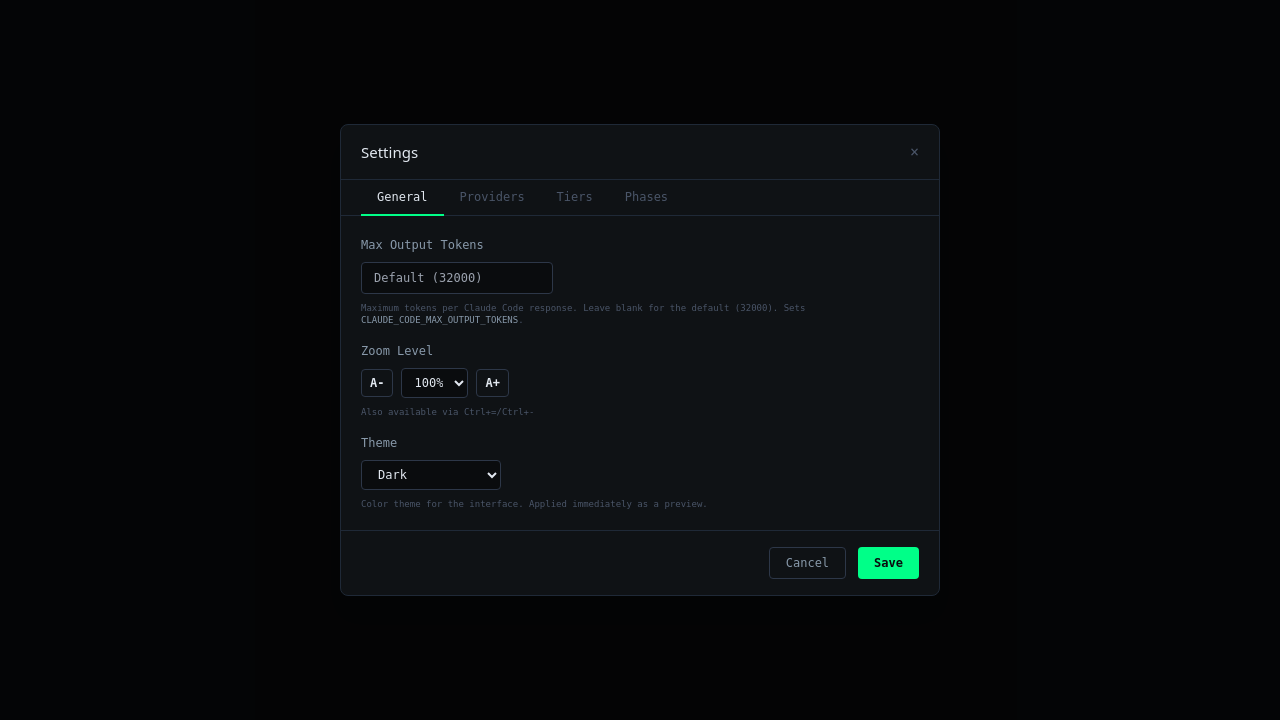
Scenario: SettingsDialog › switches between General, Providers, Tiers, and Phases tabs
Expected: the element with test id "tab-general" is shown, [361,238,805,509]
Switch to Providers
Step 1. Click the button "Providers" → (492, 198), box [444,180,541,216]
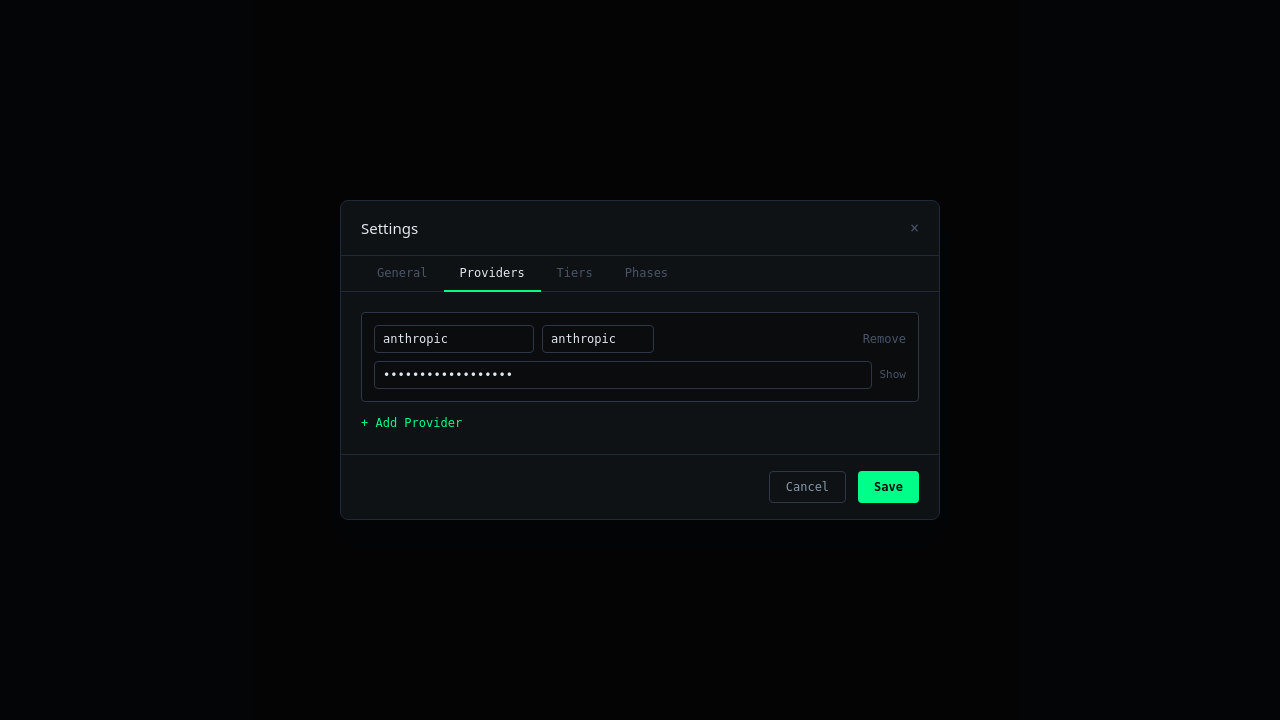
Expected: the element with test id "tab-providers" is shown, [361,312,919,434]
Switch to Tiers
Step 2. Click the button "Tiers" → (575, 274), box [541,256,609,292]
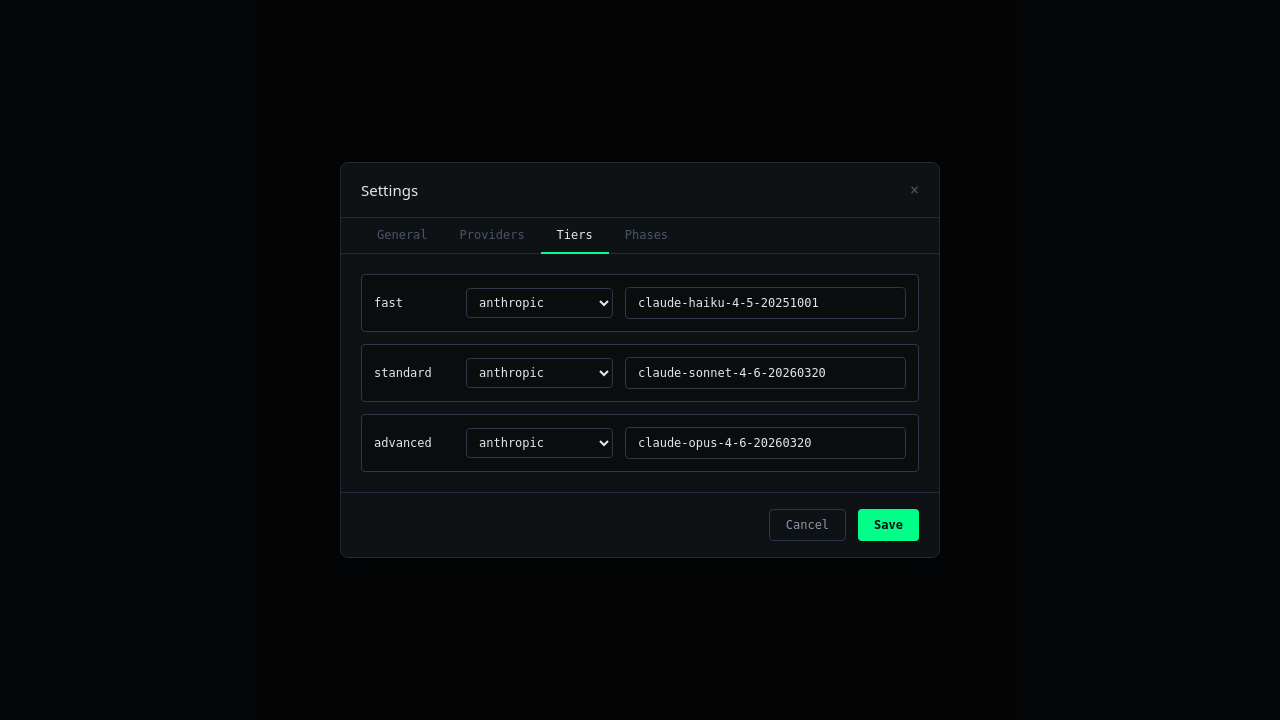
Expected: the element with test id "tab-tiers" is shown, [361,274,919,472]
Switch to Phases
Step 3. Click the button "Phases" → (646, 236), box [609,218,684,254]
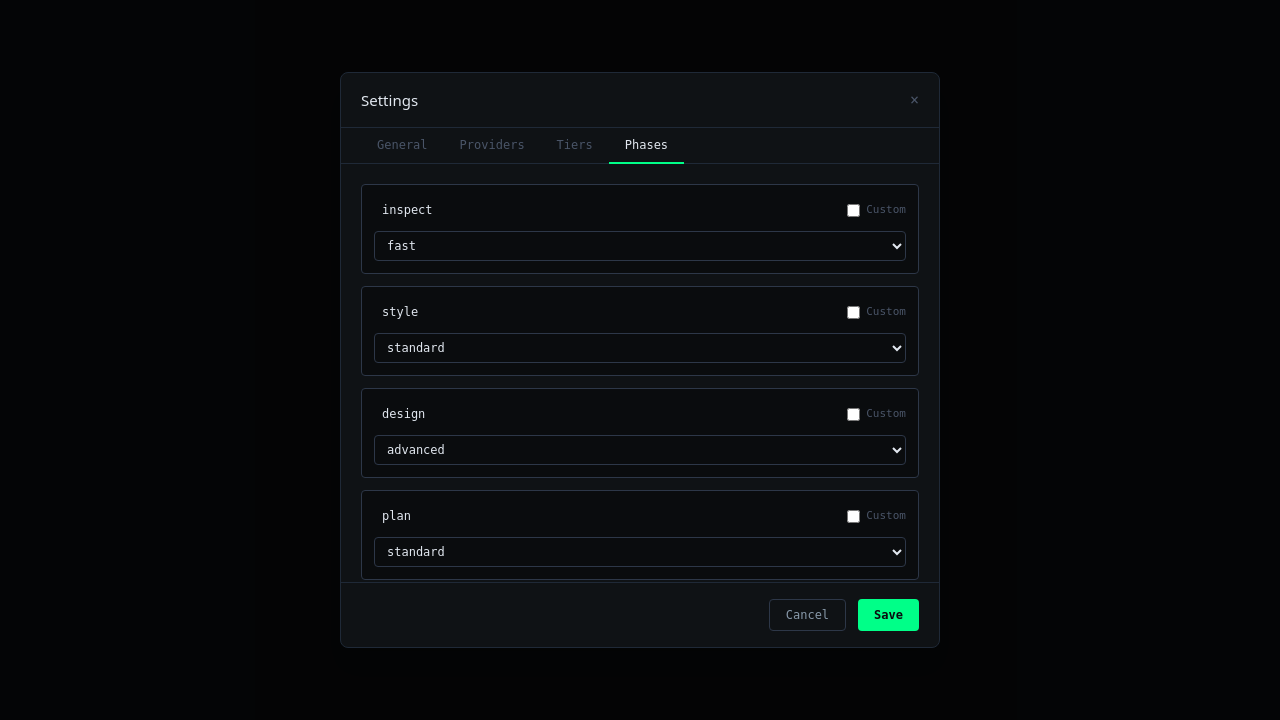
Expected: the element with test id "tab-phases" is shown, [361,184,919,582]
Switch back to General
Step 4. Click the button "General" → (402, 146), box [361,128,444,164]
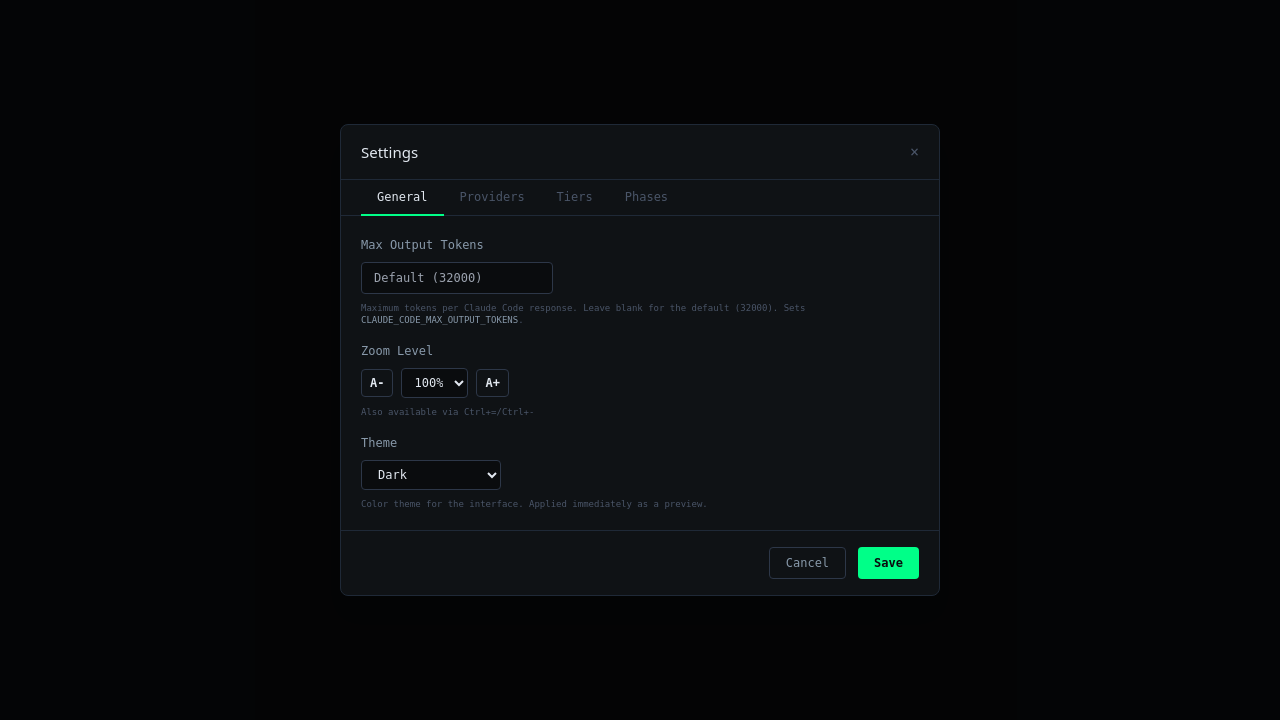
Expected: the element with test id "tab-general" is shown, [361,238,805,509]
